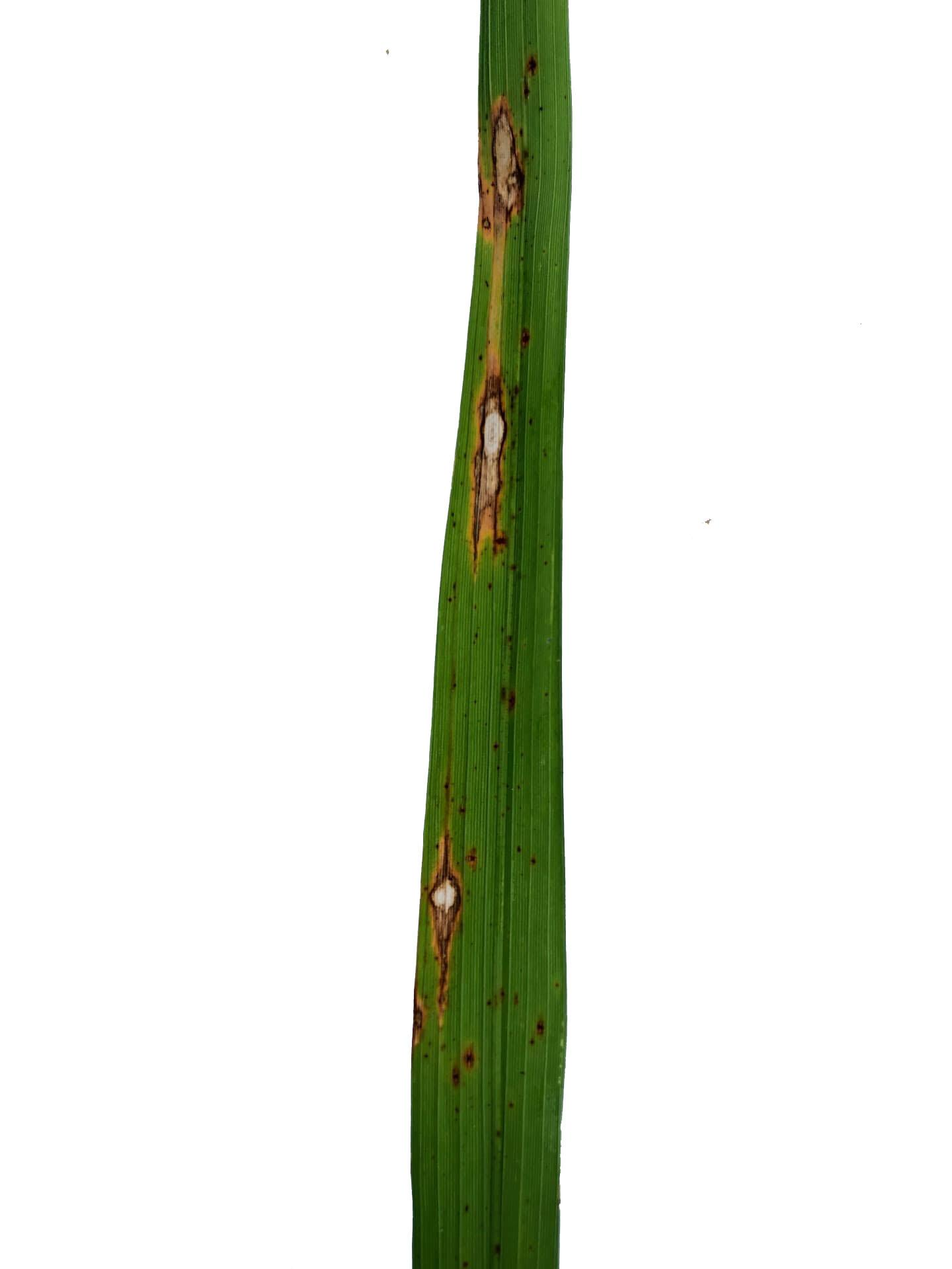Rice blast: (424, 817, 466, 1005)
